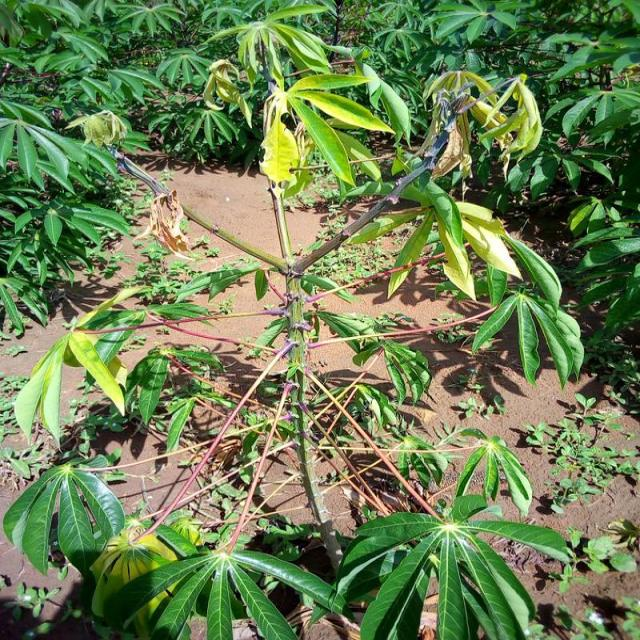cassava leaf: (2, 461, 126, 579)
